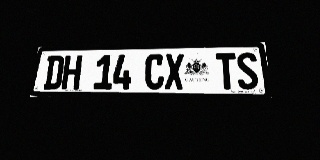1: (93, 55, 114, 89)
4: (112, 54, 133, 89)
C: (145, 54, 164, 89)
D: (43, 55, 65, 89)
H: (61, 55, 83, 89)
S: (236, 52, 259, 89)
T: (215, 53, 238, 89)
X: (164, 53, 184, 89)
